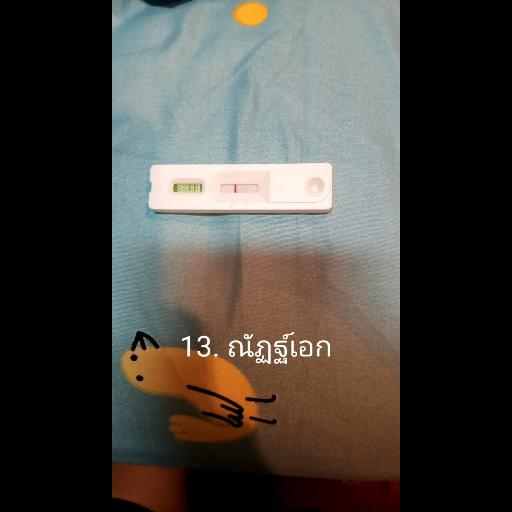Neg: (150, 164, 330, 208)
